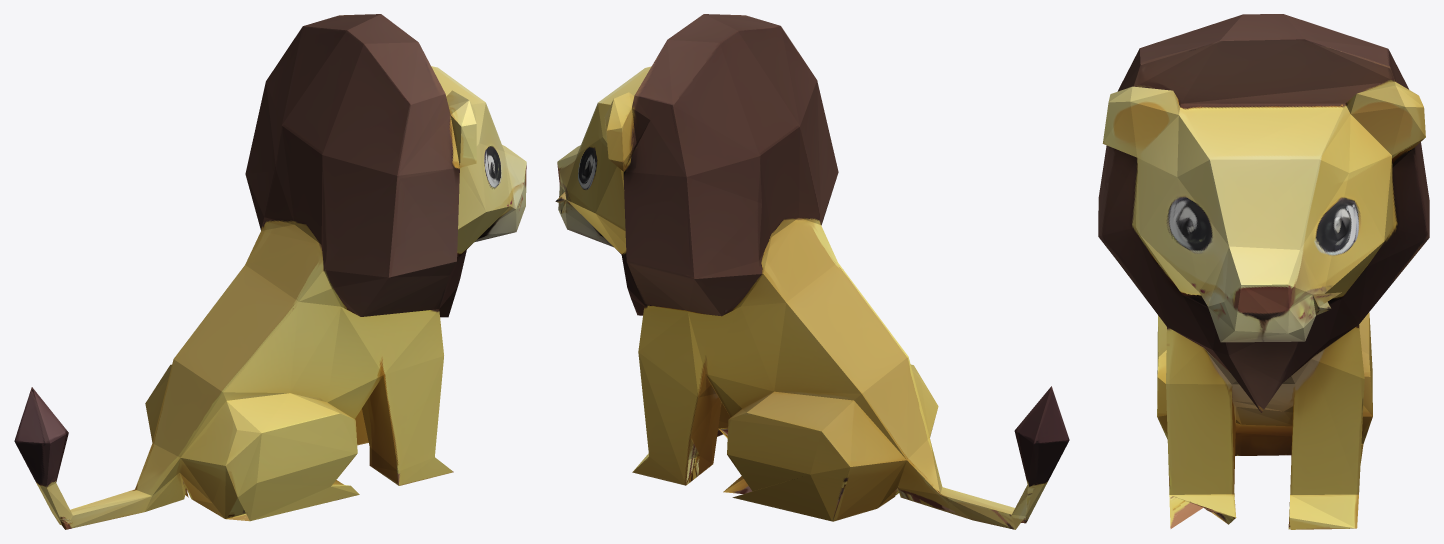
3 renders of one model, left to right at view 1: azimuth 30°, elevation 25°; view 2: azimuth 150°, elevation 25°; view 3: azimuth 270°, elevation 25°, orthographic. The views are drawn at different scales.
Parts seen in each view (by area): view 1: Figure; view 2: Figure; view 3: Figure.
Part boxes in pixels (x1,y1,x2,y2): Figure: (14,14,526,529); Figure: (555,14,1069,529); Figure: (1098,14,1429,529).
Bounding box in the file's own units: 0.5978 × 0.4795 × 0.297.
1 material, 1 textured.
